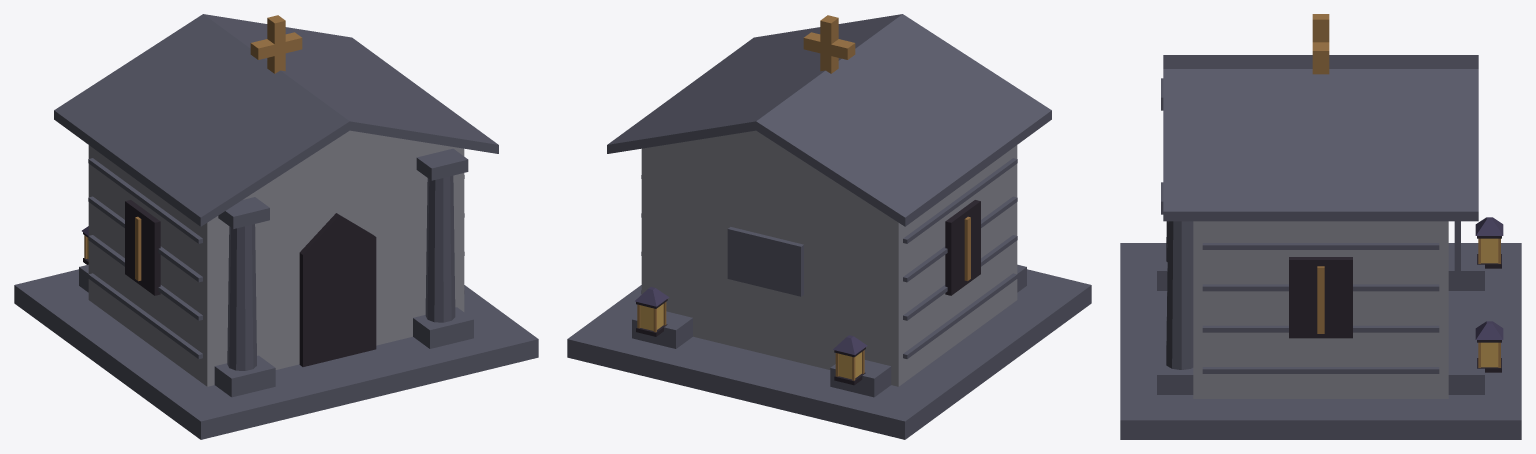
File: HauntedWoods_Mausoleum_Showcase.glb
3 views of the same model, side by side, from view 1: azimuth 30°, elevation 25°; view 2: azimuth 150°, elevation 25°; view 3: azimuth 270°, elevation 25° (orthographic). The views are drawn at different scales.
Visible parts, largest first — view 1: HauntedWoods_Mausoleum_Showcase; view 2: HauntedWoods_Mausoleum_Showcase; view 3: HauntedWoods_Mausoleum_Showcase.
Part boxes in pixels (left/top/right/bottom): HauntedWoods_Mausoleum_Showcase: left=14, top=14, right=538, bottom=439; HauntedWoods_Mausoleum_Showcase: left=567, top=14, right=1091, bottom=439; HauntedWoods_Mausoleum_Showcase: left=1120, top=14, right=1521, bottom=439.
Size of the model in its own units: 4.6 by 4.05 by 4.4.
